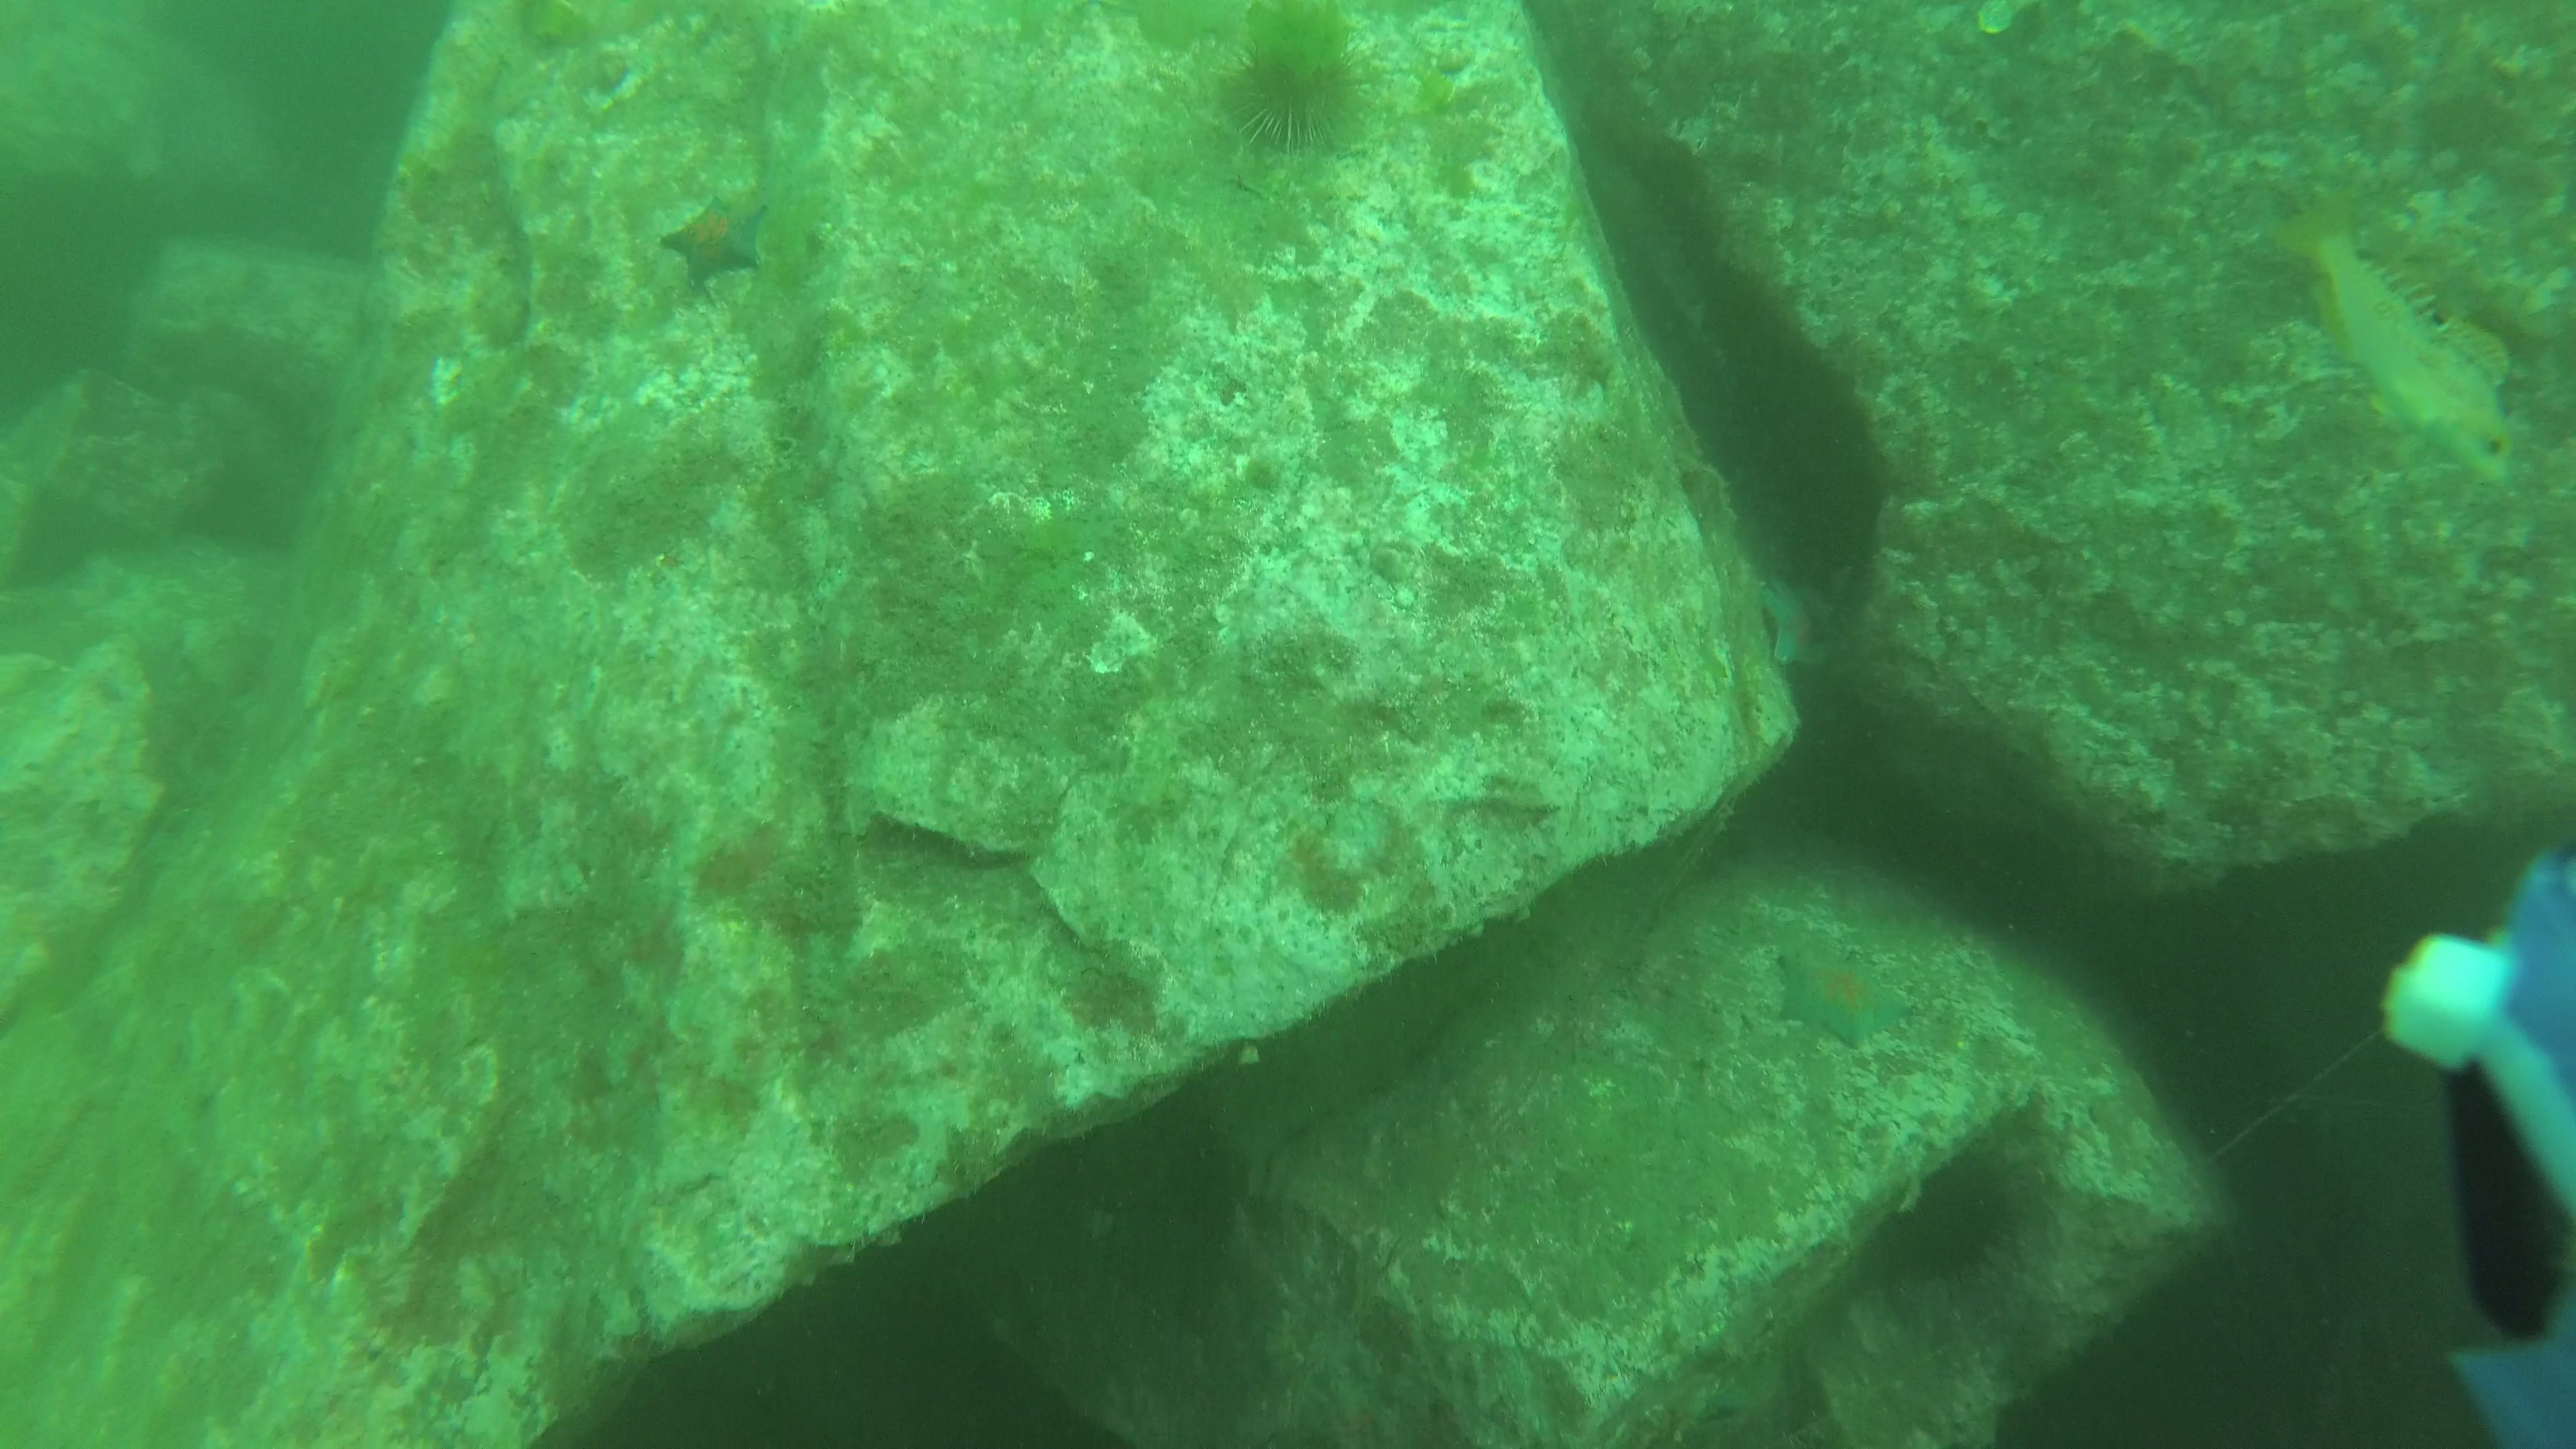echinus: (1865, 1146, 2031, 1295), (1212, 21, 1382, 166)
starfish: (1764, 941, 1923, 1053), (653, 186, 775, 290), (1748, 563, 1836, 674)
